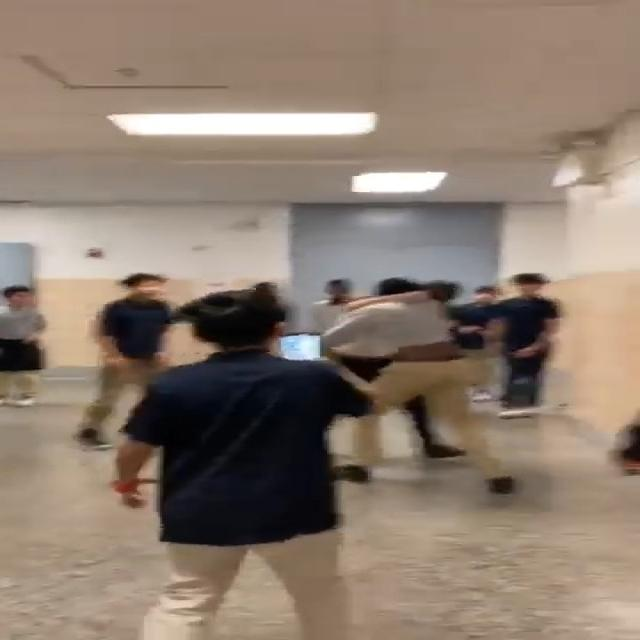fight: (328, 277, 539, 503)
